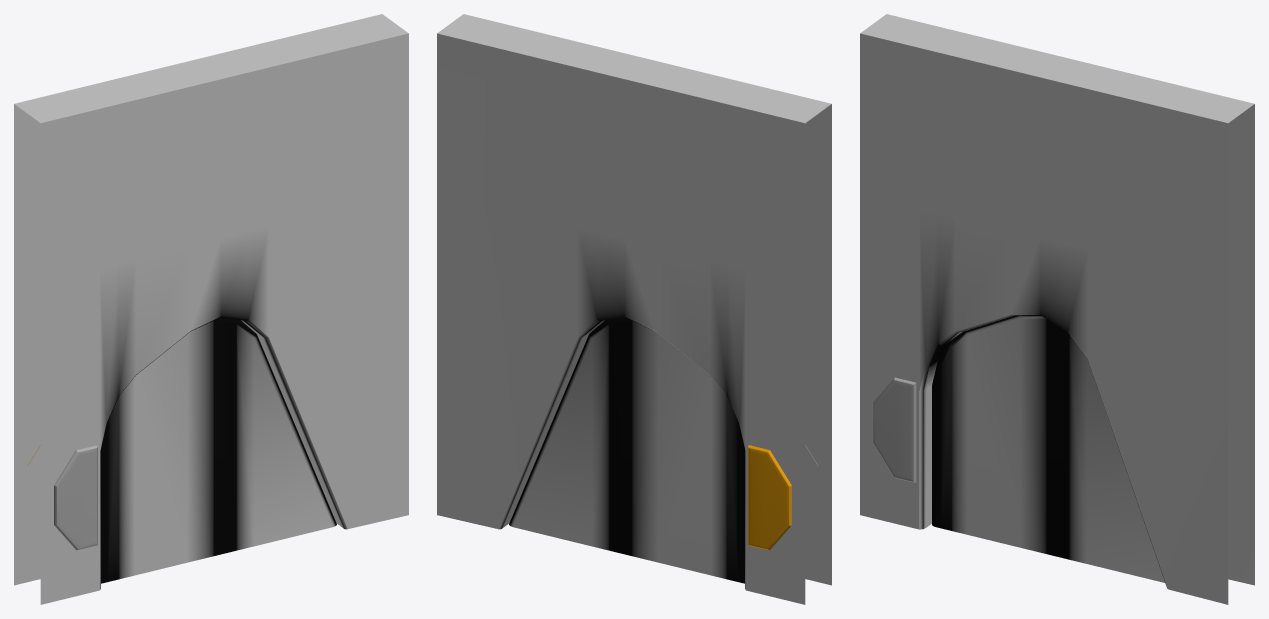
The model's file is Door_Proto.fbx.
3 renders of one model, left to right at view 1: azimuth 30°, elevation 25°; view 2: azimuth 150°, elevation 25°; view 3: azimuth 330°, elevation 25°, orthographic.
Visible parts, largest first — view 1: Frame, Door, Control_panel_back; view 2: Frame, Door, Control_panel_front; view 3: Frame, Door, Control_panel_back.
Part boxes in pixels (box(x1,y1,x2,y2)): Frame: box(14, 14, 408, 604); Door: box(100, 318, 336, 583); Control_panel_back: box(54, 445, 97, 550); Frame: box(437, 14, 831, 604); Door: box(509, 318, 745, 583); Control_panel_front: box(748, 445, 791, 550); Frame: box(860, 14, 1254, 604); Door: box(932, 315, 1164, 582); Control_panel_back: box(872, 377, 916, 482).
Size of the model in its own units: 400 by 500 by 57.03.
